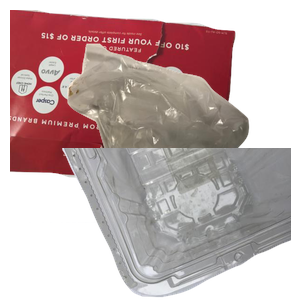glass: (29, 120, 242, 300)
paper: (10, 10, 238, 190)
plastic: (60, 148, 300, 300)
trash: (65, 41, 300, 221)
